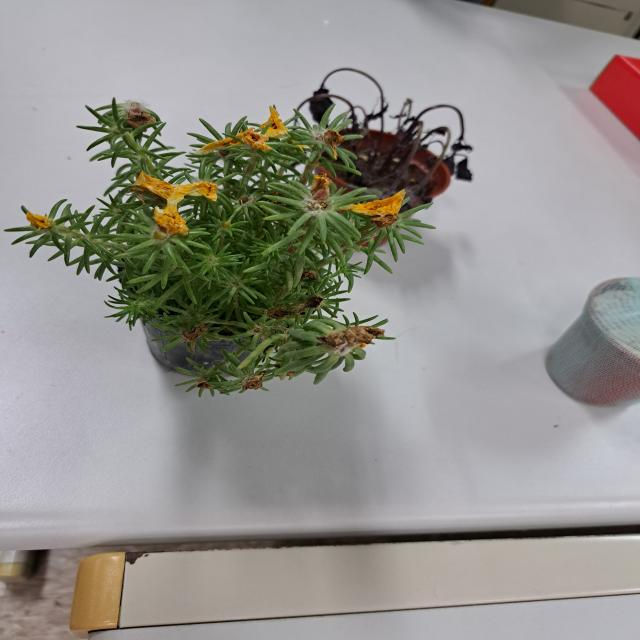normal: (45, 110, 359, 382)
withered: (312, 76, 476, 198)
